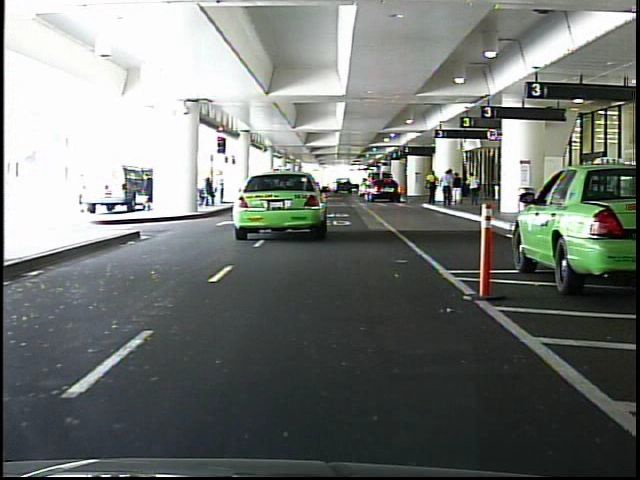person: (466, 169, 485, 211), (424, 166, 441, 209), (440, 166, 456, 211), (452, 172, 464, 212)
